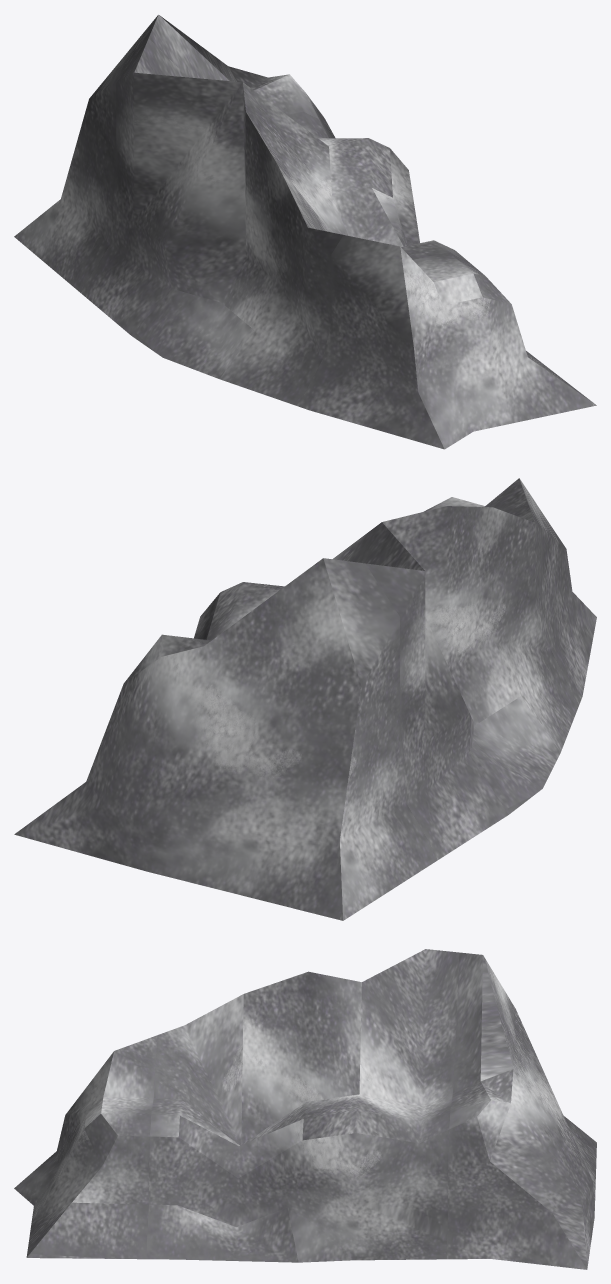
The model's file is MountainR2.FBX.
The picture shows the model from 3 angles, top to bottom: view 1: azimuth 30°, elevation 25°; view 2: azimuth 150°, elevation 25°; view 3: azimuth 270°, elevation 25°; orthographic projection. The views are drawn at different scales.
Visible parts, largest first — view 1: MountainR2; view 2: MountainR2; view 3: MountainR2.
Part boxes in pixels (x1=…): MountainR2: x1=14, y1=14, x2=596, y2=449; MountainR2: x1=14, y1=478, x2=596, y2=920; MountainR2: x1=14, y1=949, x2=596, y2=1269.
Size of the model in its own units: 105 by 84.37 by 195.
Materials: 1 (1 with a texture image).
